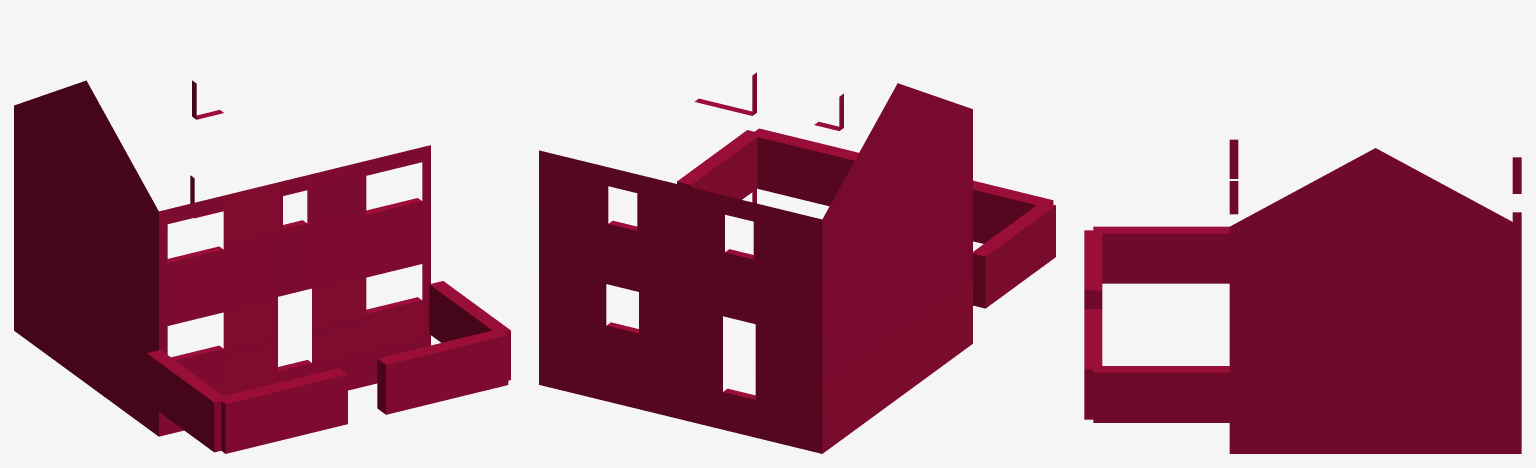
File: SM_Bld_057_Masonry.glb
3 renders of one model, left to right at view 1: azimuth 30°, elevation 25°; view 2: azimuth 150°, elevation 25°; view 3: azimuth 270°, elevation 25°, orthographic. The views are drawn at different scales.
Parts seen in each view (by area): view 1: SM_Bld_057_Masonry; view 2: SM_Bld_057_Masonry; view 3: SM_Bld_057_Masonry.
Boxes of the visible parts, x1,y1,x2,y2 form: SM_Bld_057_Masonry: (14, 80, 510, 453); SM_Bld_057_Masonry: (539, 72, 1055, 453); SM_Bld_057_Masonry: (1084, 139, 1521, 453).
Size of the model in its own units: 8.54 by 8.35 by 10.81.
